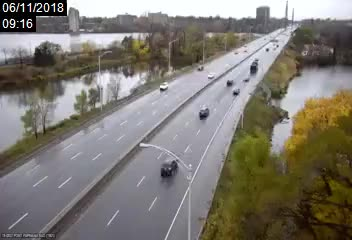personal_car: (159, 156, 179, 177), (198, 106, 209, 118), (159, 81, 168, 90), (233, 88, 241, 96), (242, 76, 250, 83), (226, 78, 233, 85), (207, 73, 214, 79), (198, 65, 204, 71)
